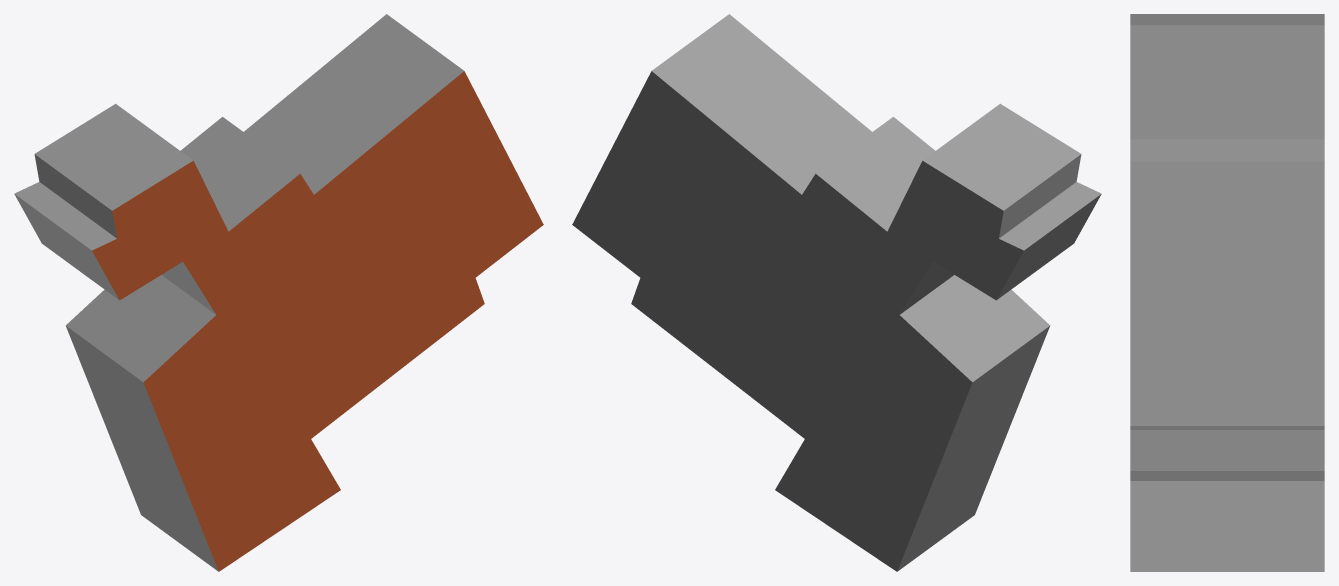
File: construction_5302_assumed_A_Casa_h6m.obj
3 views of the same model, side by side, from view 1: azimuth 30°, elevation 25°; view 2: azimuth 150°, elevation 25°; view 3: azimuth 270°, elevation 25° (orthographic). The views are drawn at different scales.
Visible parts, largest first — view 1: construction_5302_assumed_A_Casa; view 2: construction_5302_assumed_A_Casa; view 3: construction_5302_assumed_A_Casa.
Boxes of the visible parts, <box> form: construction_5302_assumed_A_Casa: <box>14,14,543,571</box>; construction_5302_assumed_A_Casa: <box>572,14,1101,571</box>; construction_5302_assumed_A_Casa: <box>1130,14,1324,571</box>.
Size of the model in its own units: 20.13 by 18.77 by 6.
